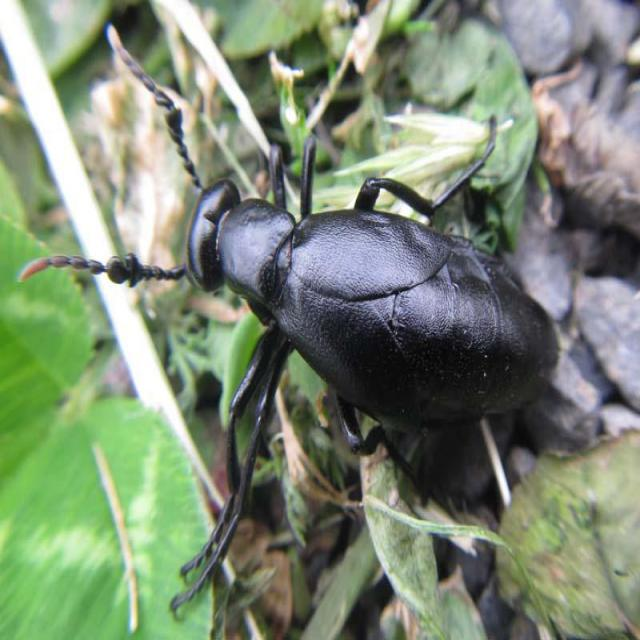BlisterBeetle-Adult-: (38, 18, 567, 518)
